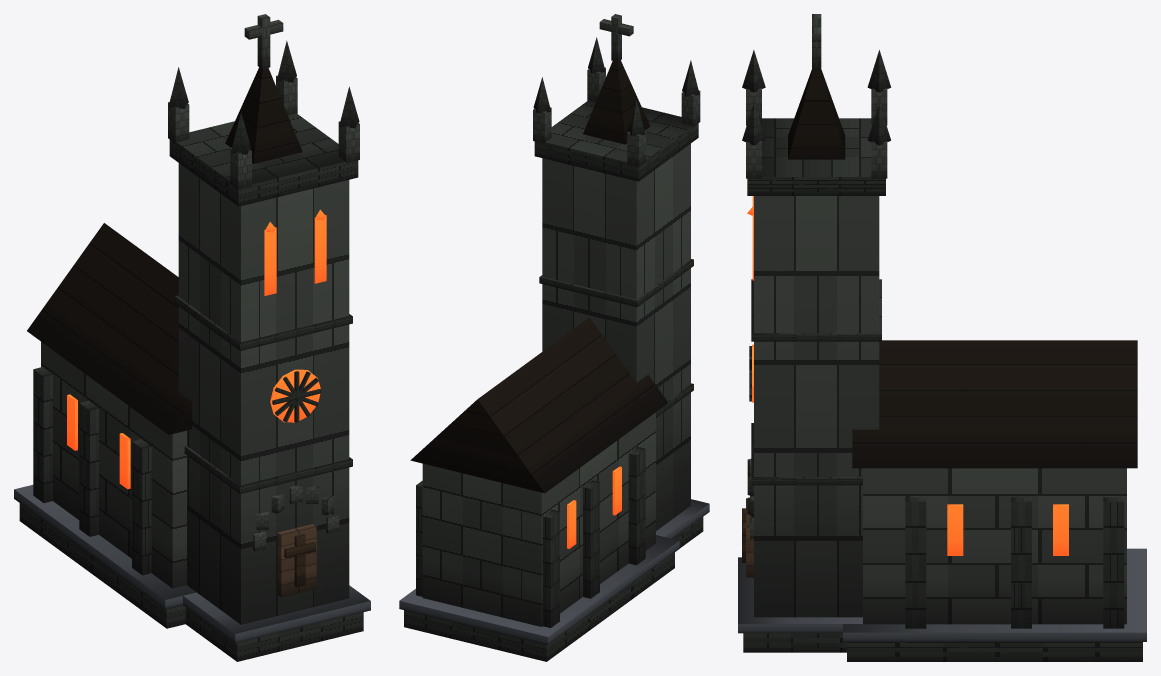
Rendered from chapel.gltf.
3 renders of one model, left to right at view 1: azimuth 30°, elevation 25°; view 2: azimuth 150°, elevation 25°; view 3: azimuth 270°, elevation 25°, orthographic. The views are drawn at different scales.
Parts seen in each view (by area): view 1: chapel; view 2: chapel; view 3: chapel.
Part boxes in pixels (bbox=[...]): chapel: bbox=[14, 14, 370, 661]; chapel: bbox=[399, 14, 709, 661]; chapel: bbox=[738, 14, 1146, 661].
Size of the model in its own units: 1.5 by 5.06 by 3.09.
Materials: 1 (1 with a texture image).
